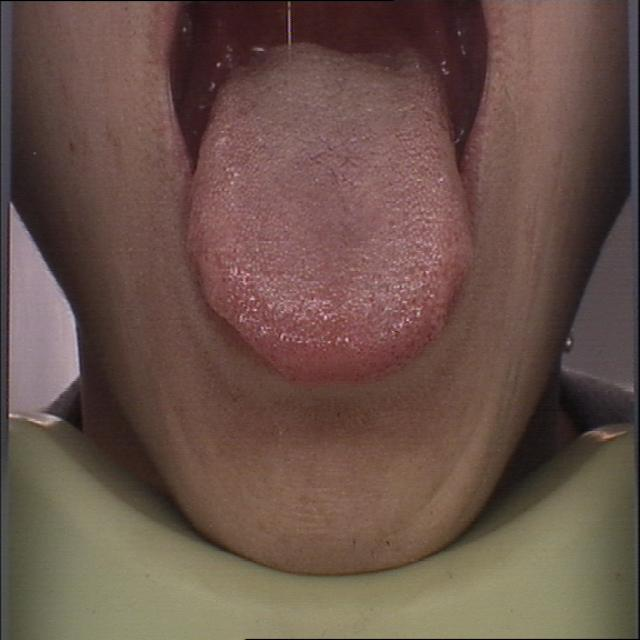tongue: (186, 41, 483, 383)
